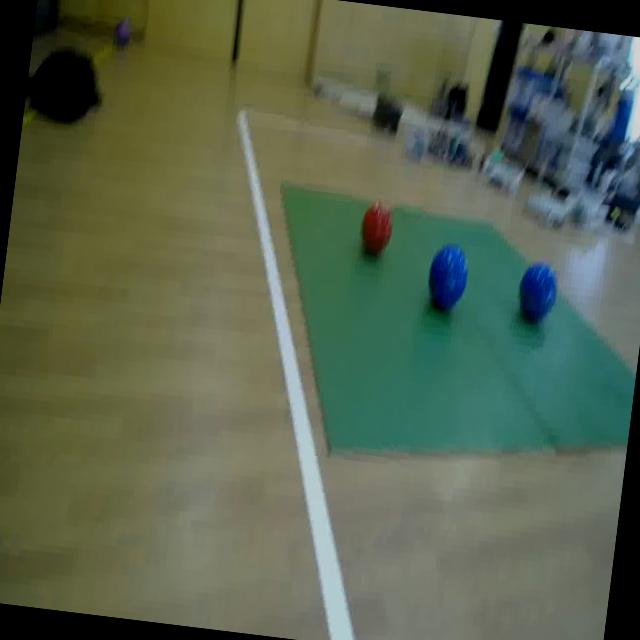blue_ball: (422, 235, 474, 318), (513, 258, 560, 328)
purple_ball: (112, 15, 134, 48)
red_ball: (355, 197, 395, 261)
